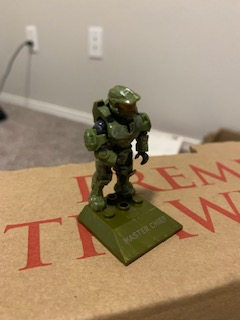chief: (83, 85, 153, 212)
spartan: (81, 83, 151, 210)
